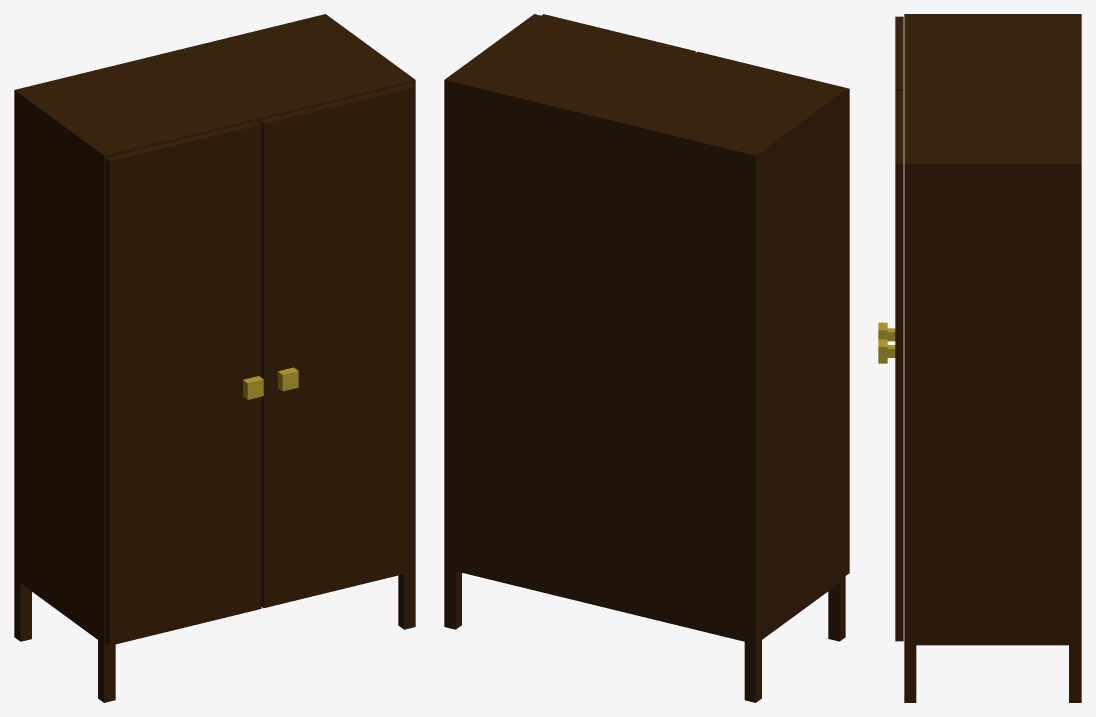
The model's file is Armario.fbx.
The picture shows the model from 3 angles, left to right: view 1: azimuth 30°, elevation 25°; view 2: azimuth 150°, elevation 25°; view 3: azimuth 270°, elevation 25°; orthographic projection.
Visible parts, largest first — view 1: Door1.001, Wardrobe, Door1; view 2: Wardrobe, Door1.001; view 3: Wardrobe, Door1, Door1.001.
Part boxes in pixels (box(x1,y1,x2,y2)): Door1.001: box(105, 121, 263, 645); Wardrobe: box(14, 14, 415, 702); Door1: box(259, 83, 415, 608); Wardrobe: box(444, 14, 845, 702); Door1.001: box(695, 51, 849, 575); Wardrobe: box(904, 14, 1081, 702); Door1: box(878, 90, 903, 641); Door1.001: box(878, 16, 903, 341).
Size of the model in its own units: 200 by 336 by 115.
